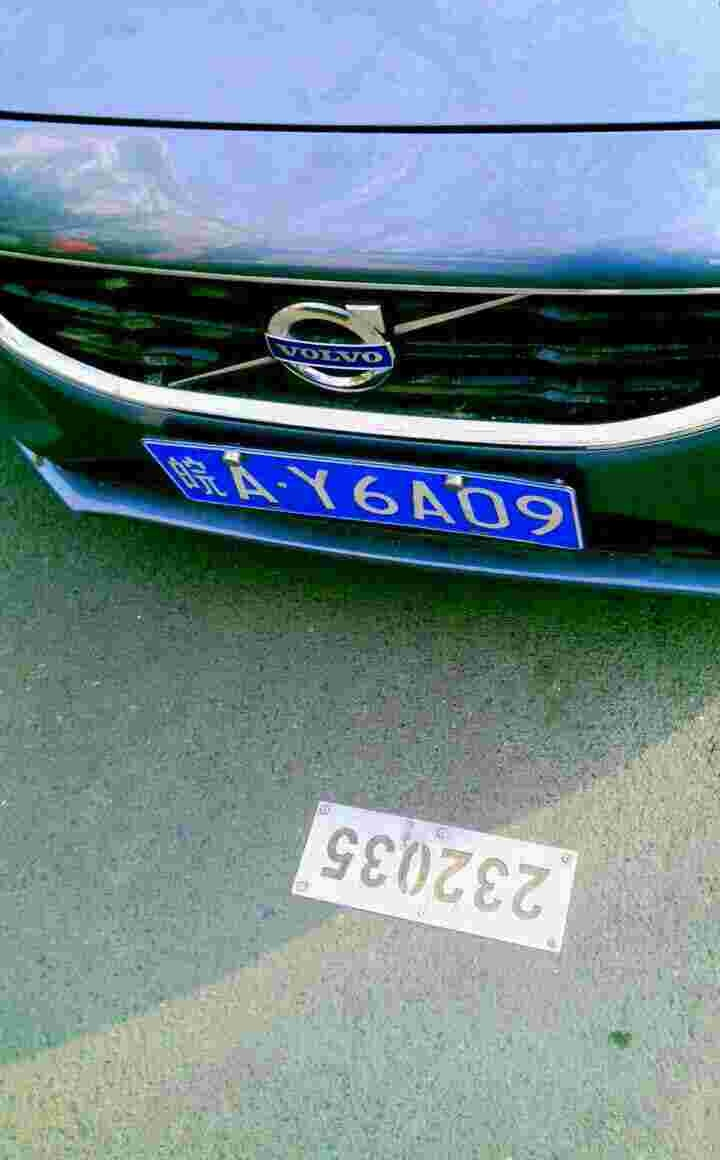license_plate: (148, 439, 596, 559)
